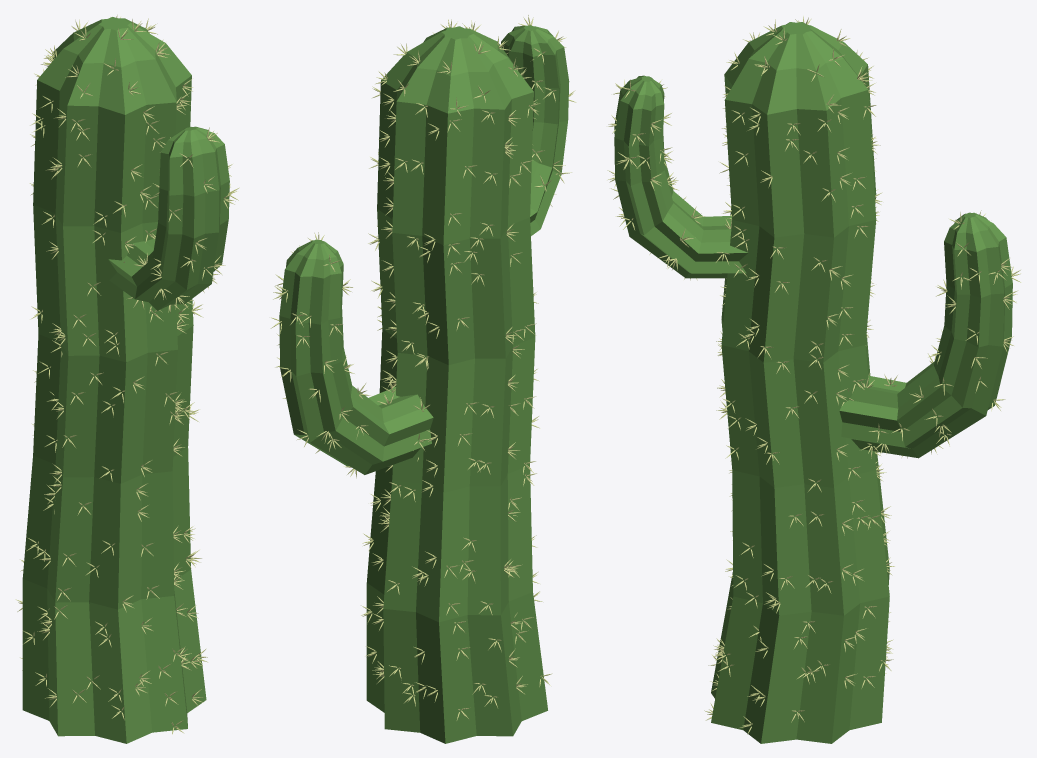
Rendered from Cactus_Tree_005.fbx.
The picture shows the model from 3 angles, left to right: view 1: azimuth 30°, elevation 25°; view 2: azimuth 150°, elevation 25°; view 3: azimuth 270°, elevation 25°; orthographic projection.
Parts seen in each view (by area): view 1: Cactus_Tree_05; view 2: Cactus_Tree_05; view 3: Cactus_Tree_05.
Boxes of the visible parts, x1,y1,x2,y2 form: Cactus_Tree_05: [15, 15, 239, 743]; Cactus_Tree_05: [270, 15, 576, 743]; Cactus_Tree_05: [607, 16, 1021, 743].
Size of the model in its own units: 117 by 440 by 241.
